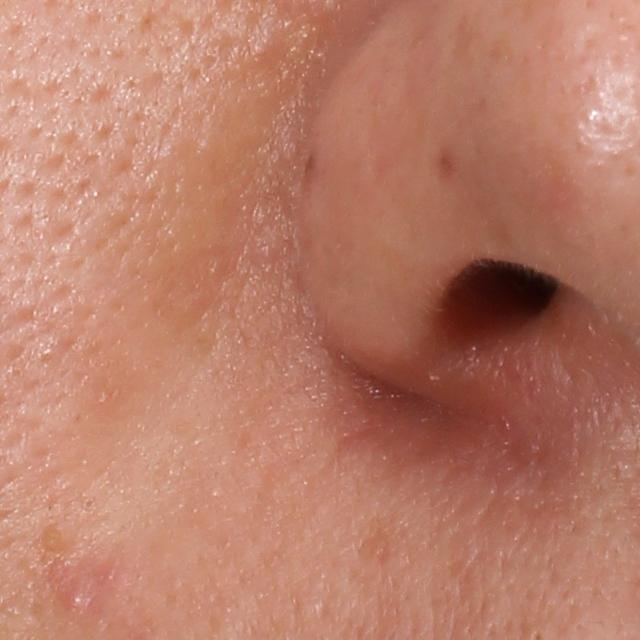comedo: (36, 513, 74, 563)
papule: (58, 578, 95, 619)
